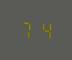four: (35, 19, 50, 40)
seven: (19, 19, 34, 39)
